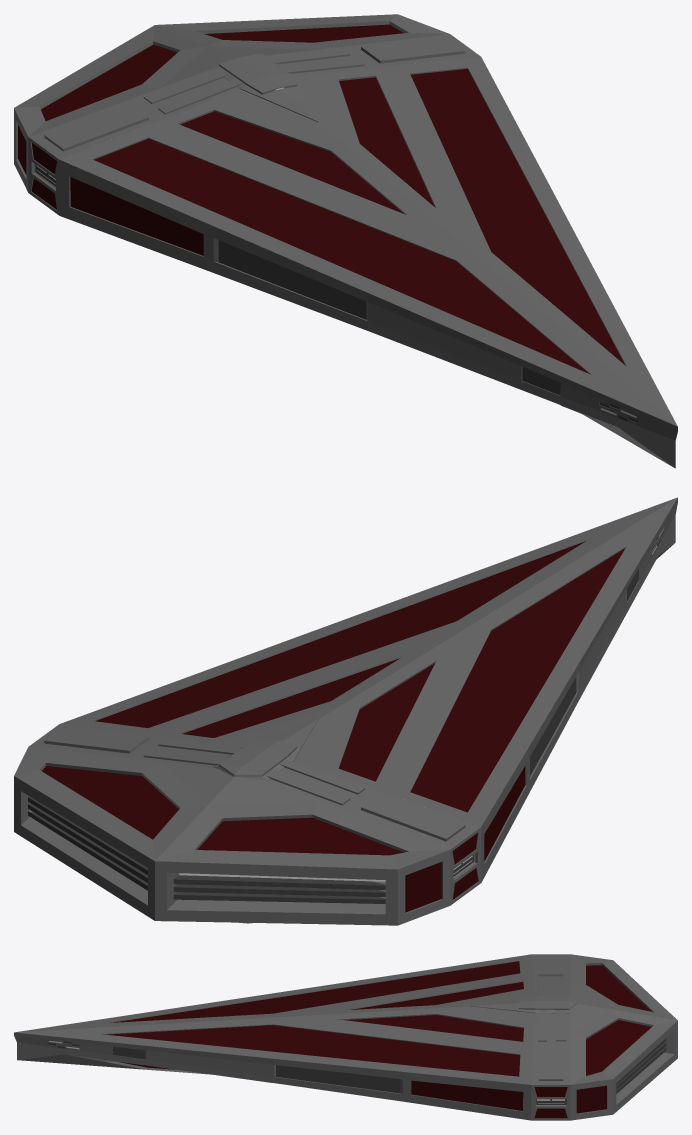
File: Khan Battlecruiser.fbx
3 renders of one model, top to bottom at view 1: azimuth 30°, elevation 25°; view 2: azimuth 150°, elevation 25°; view 3: azimuth 270°, elevation 25°, orthographic. The views are drawn at different scales.
Visible parts, largest first — view 1: Khan_BattleCarrier; view 2: Khan_BattleCarrier; view 3: Khan_BattleCarrier.
Part boxes in pixels (x1,y1,x2,y2): Khan_BattleCarrier: [14, 14, 677, 468]; Khan_BattleCarrier: [14, 497, 677, 925]; Khan_BattleCarrier: [14, 954, 677, 1120].
Size of the model in its own units: 3707 by 1289 by 7961.
